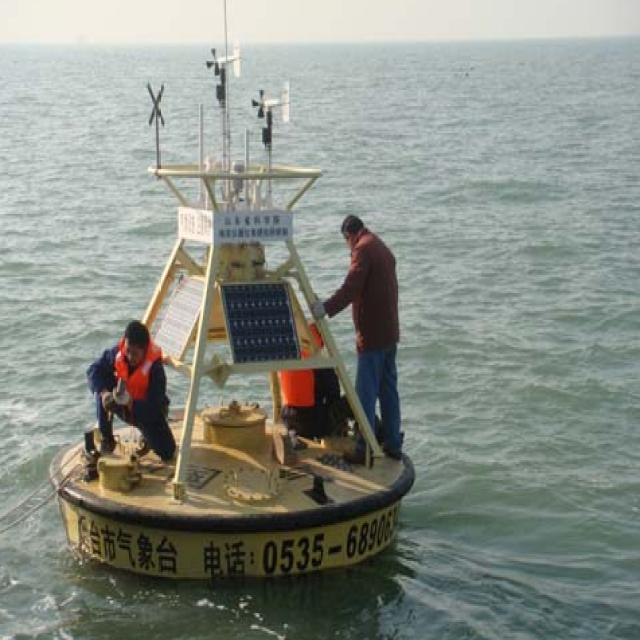buoy: (48, 41, 414, 569)
